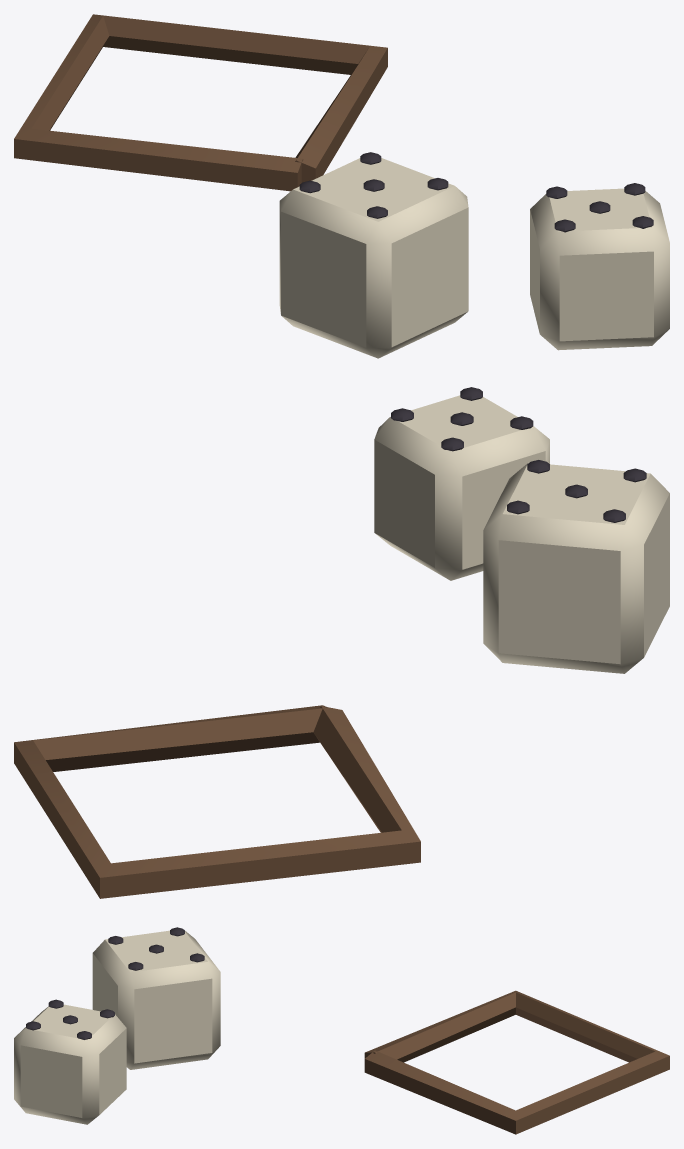
Rendered from gamblers_bones.glb.
3 renders of one model, top to bottom at view 1: azimuth 30°, elevation 25°; view 2: azimuth 150°, elevation 25°; view 3: azimuth 270°, elevation 25°, orthographic. The views are drawn at different scales.
Parts seen in each view (by area): view 1: gamblers_bones; view 2: gamblers_bones; view 3: gamblers_bones.
Part boxes in pixels (x1=…): gamblers_bones: x1=14, y1=14, x2=669, y2=358; gamblers_bones: x1=14, y1=387, x2=669, y2=898; gamblers_bones: x1=14, y1=927, x2=669, y2=1134.
Size of the model in its own units: 0.0429 by 0.0157 by 0.0913.
